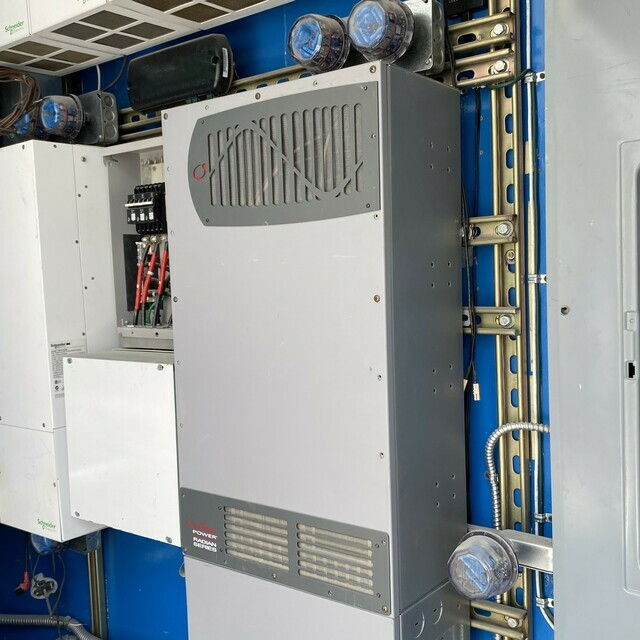inverter: (148, 55, 490, 640)
